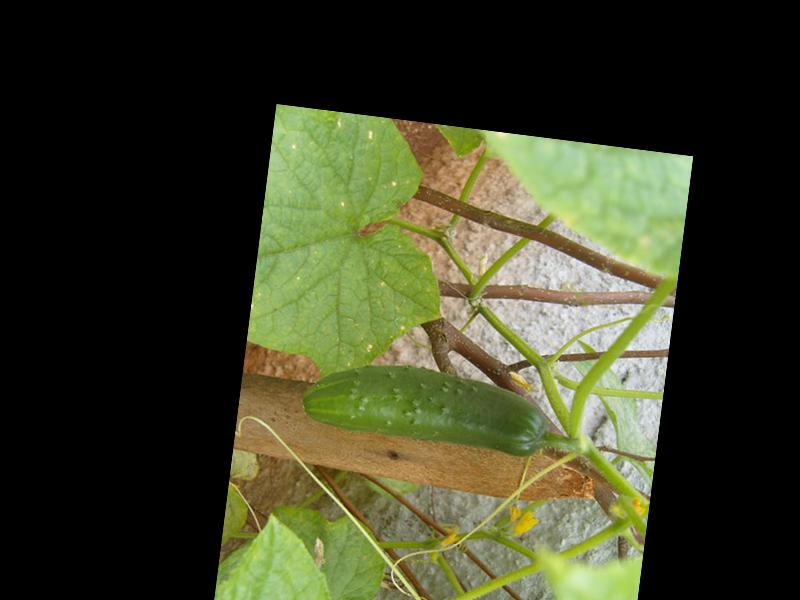Cucumber: (298, 353, 554, 460)
